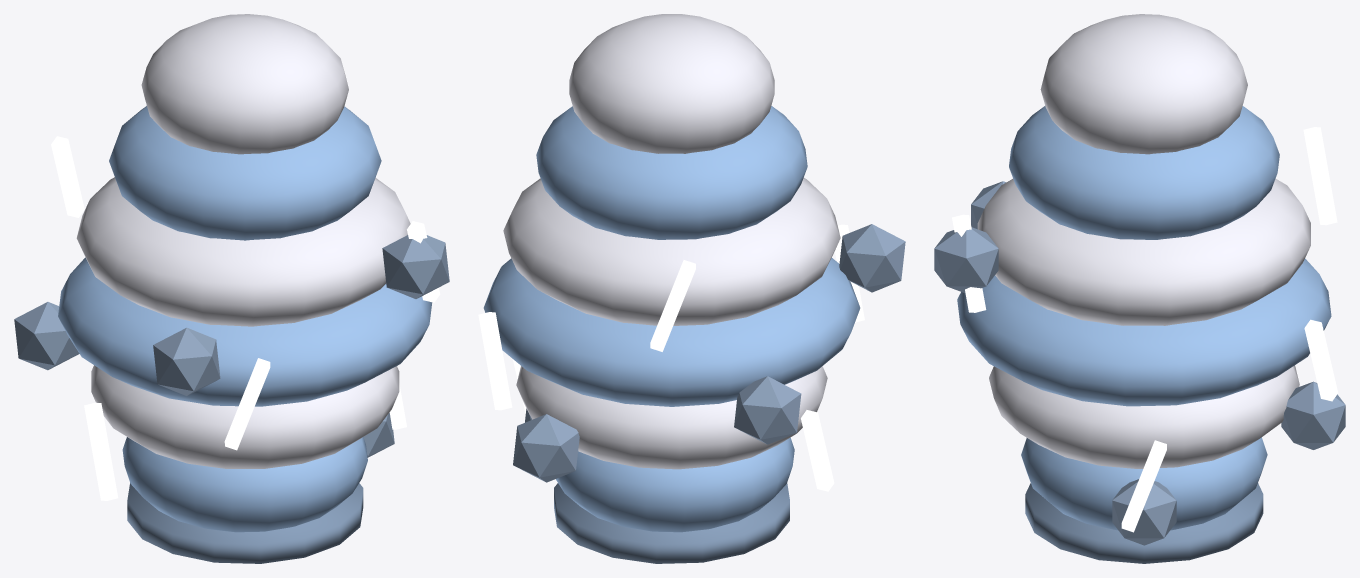
File: egg_snow_01.glb
3 views of the same model, side by side, from view 1: azimuth 30°, elevation 25°; view 2: azimuth 150°, elevation 25°; view 3: azimuth 270°, elevation 25° (orthographic).
Visible parts, largest first — view 1: ball; view 2: ball; view 3: ball.
Part boxes in pixels (box(x1,y1,x2,y2)): ball: box(14, 14, 449, 563); ball: box(478, 14, 905, 563); ball: box(934, 14, 1345, 563).
Size of the model in its own units: 0.7213 by 0.99 by 0.7608.
